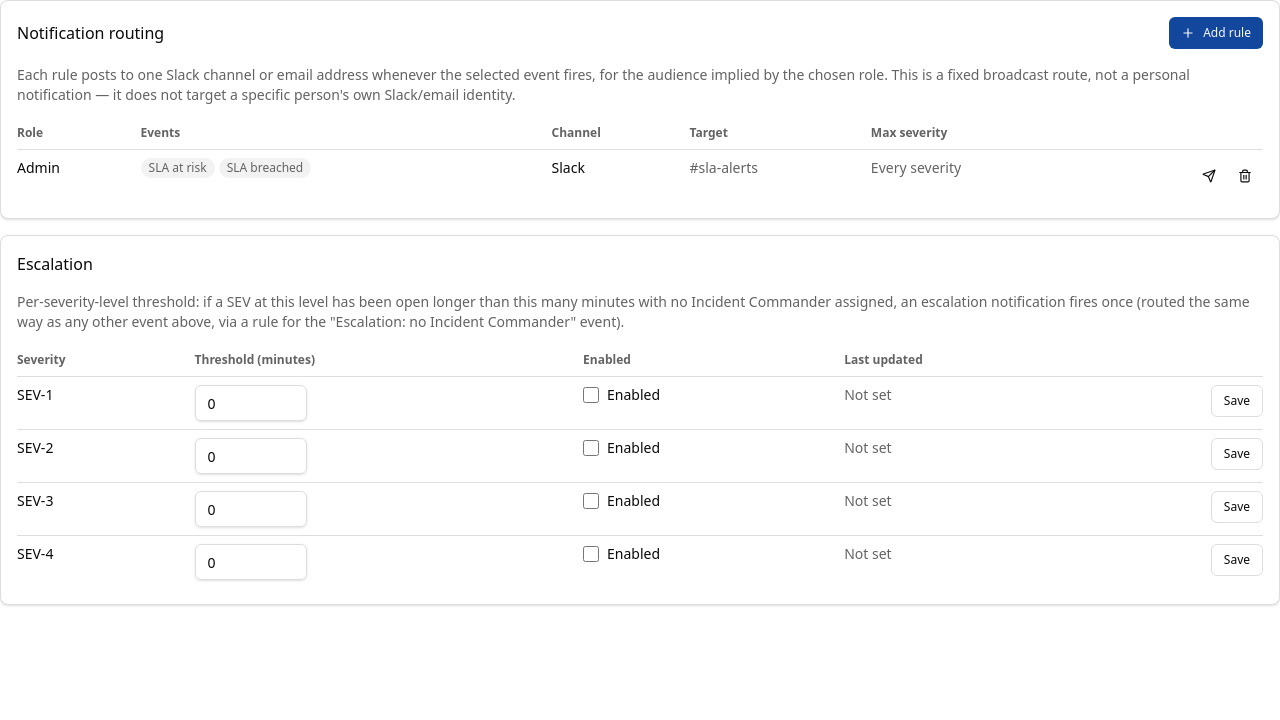
Test: AdminNotificationsPage › sends a test for an existing rule and shows per-event results
The image size is (1280, 720).
Expected: the text "#sla-alerts" is shown, [689,150,871,202]
Click the button named "send test notifications for admin" at (1209, 176), box [1191,158,1227,194]
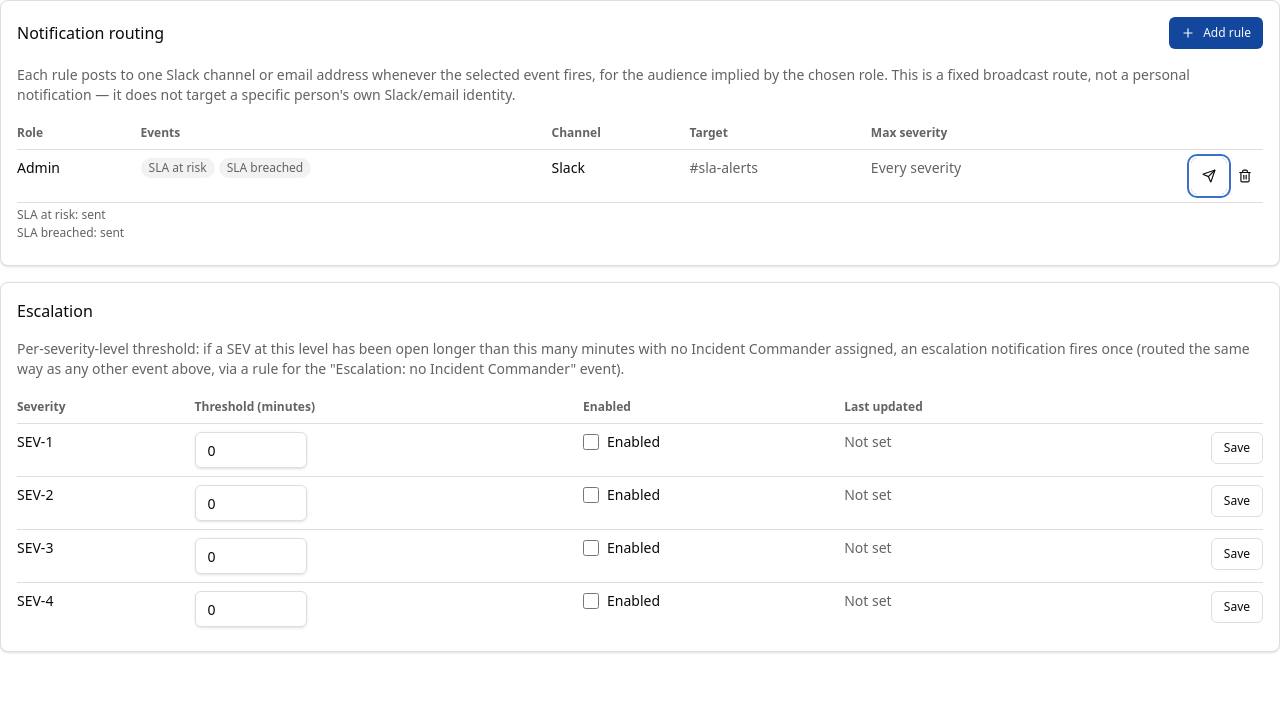
Expected: the list item "SLA at risk: sent" is shown, [17,206,106,223]
Expected: the list item "SLA breached: sent" is shown, [17,224,124,241]
